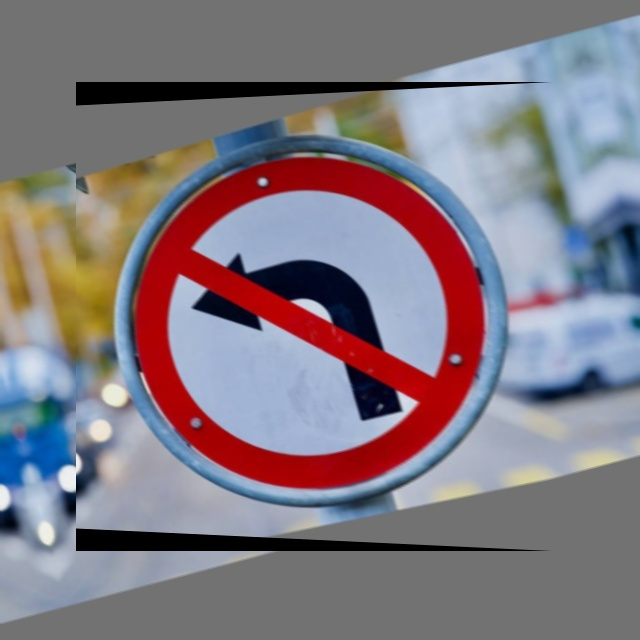Left_Turn_Prohibited: (76, 82, 552, 551)
